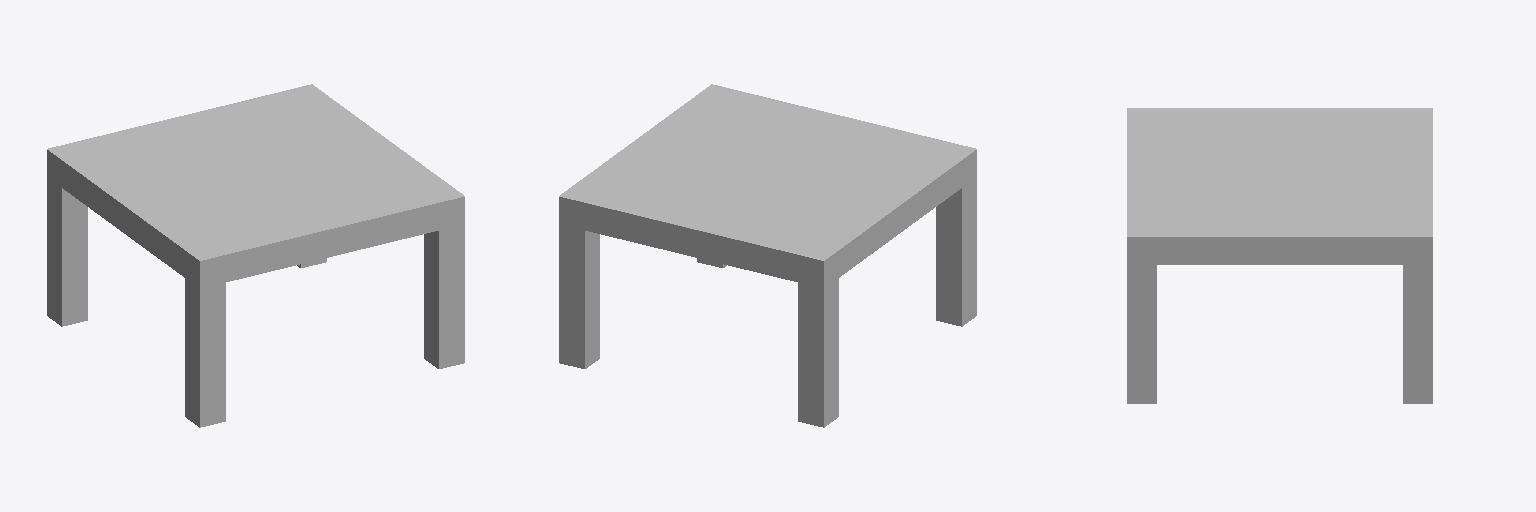
File: TableSmall.obj
3 renders of one model, left to right at view 1: azimuth 30°, elevation 25°; view 2: azimuth 150°, elevation 25°; view 3: azimuth 270°, elevation 25°, orthographic.
Visible parts, largest first — view 1: TableSmall; view 2: TableSmall; view 3: TableSmall.
Part boxes in pixels (bbox=[...]): TableSmall: bbox=[47, 84, 464, 427]; TableSmall: bbox=[559, 84, 976, 427]; TableSmall: bbox=[1127, 108, 1432, 403].
Bounding box in the file's own units: 1.25 × 0.75 × 1.25.